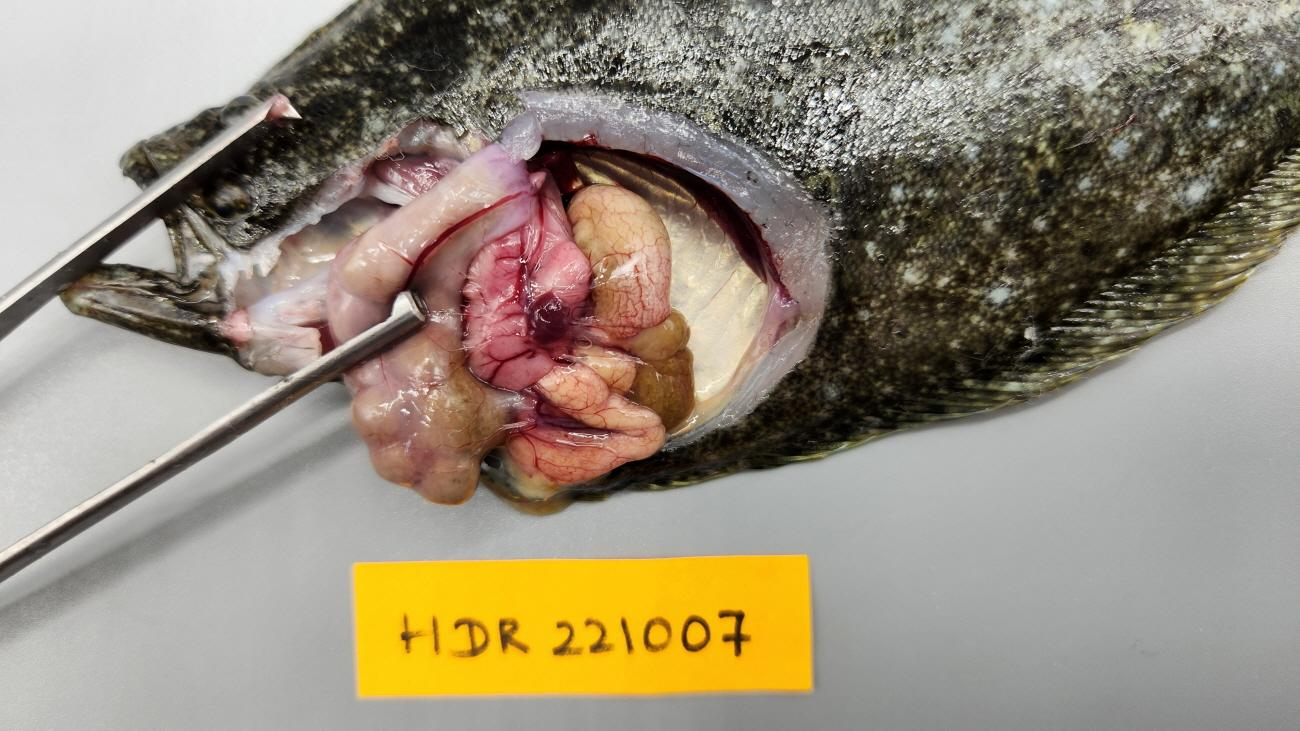POINN: (465, 190, 589, 381)
POSPN: (532, 296, 563, 332)
